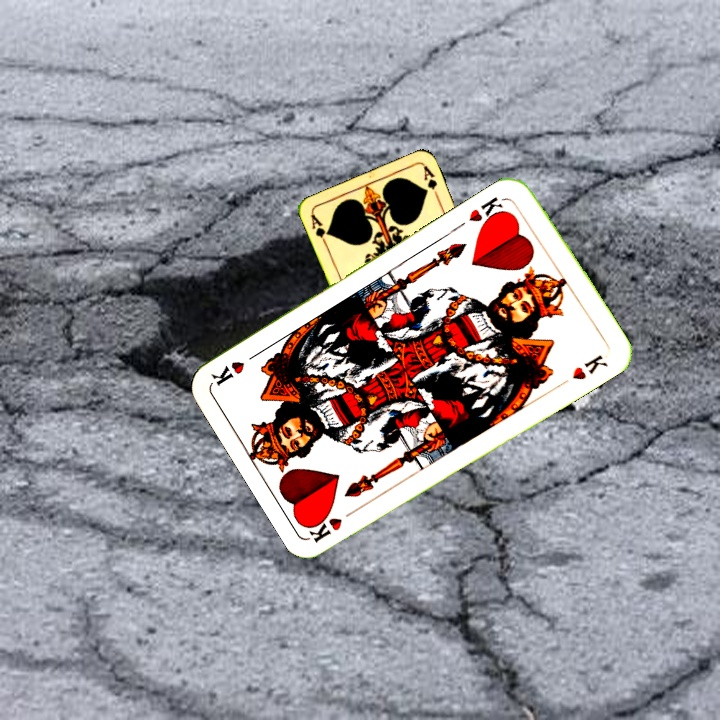GA: (307, 210, 333, 249)
HK: (305, 504, 362, 545), (465, 193, 510, 231)
